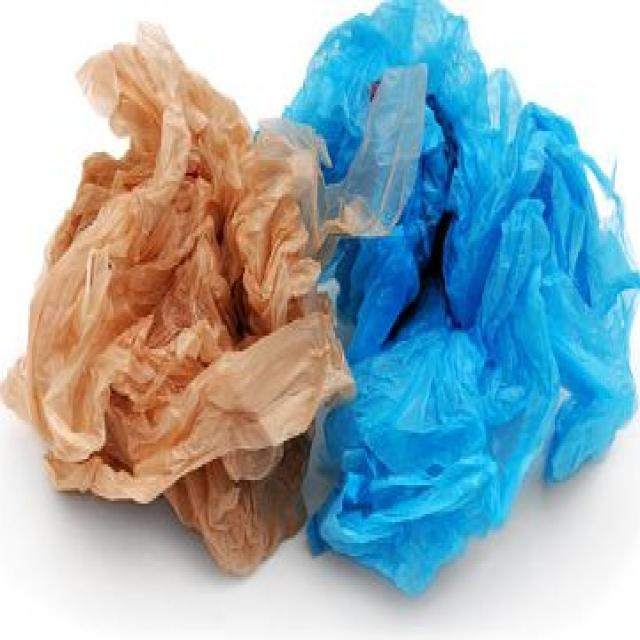general: (327, 21, 640, 562), (0, 46, 317, 556)
